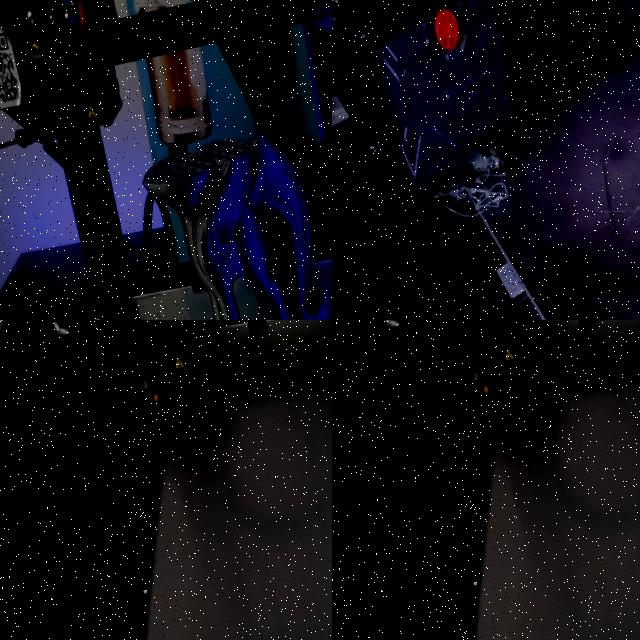spaghetti: (433, 146, 515, 221)
